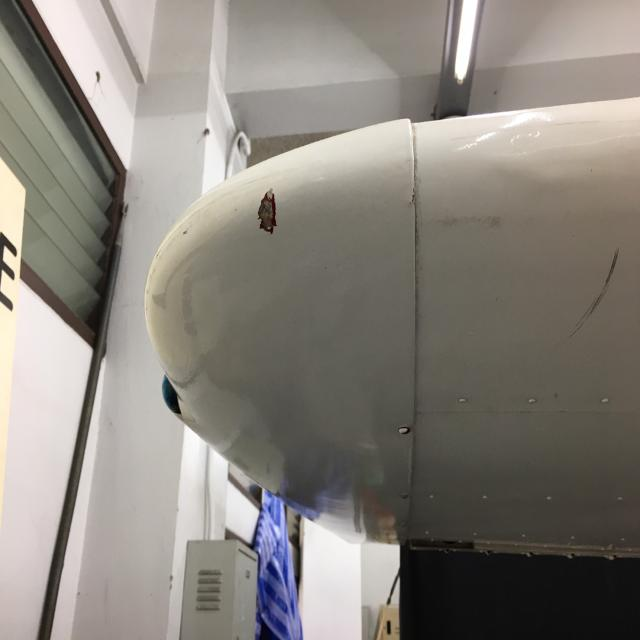Rupture: (555, 242, 625, 372), (249, 185, 296, 244)
